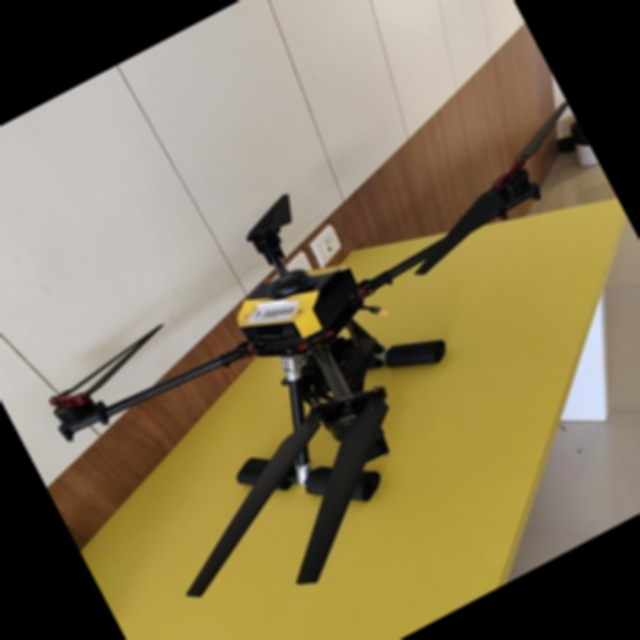quadcopter: (0, 52, 640, 640)
